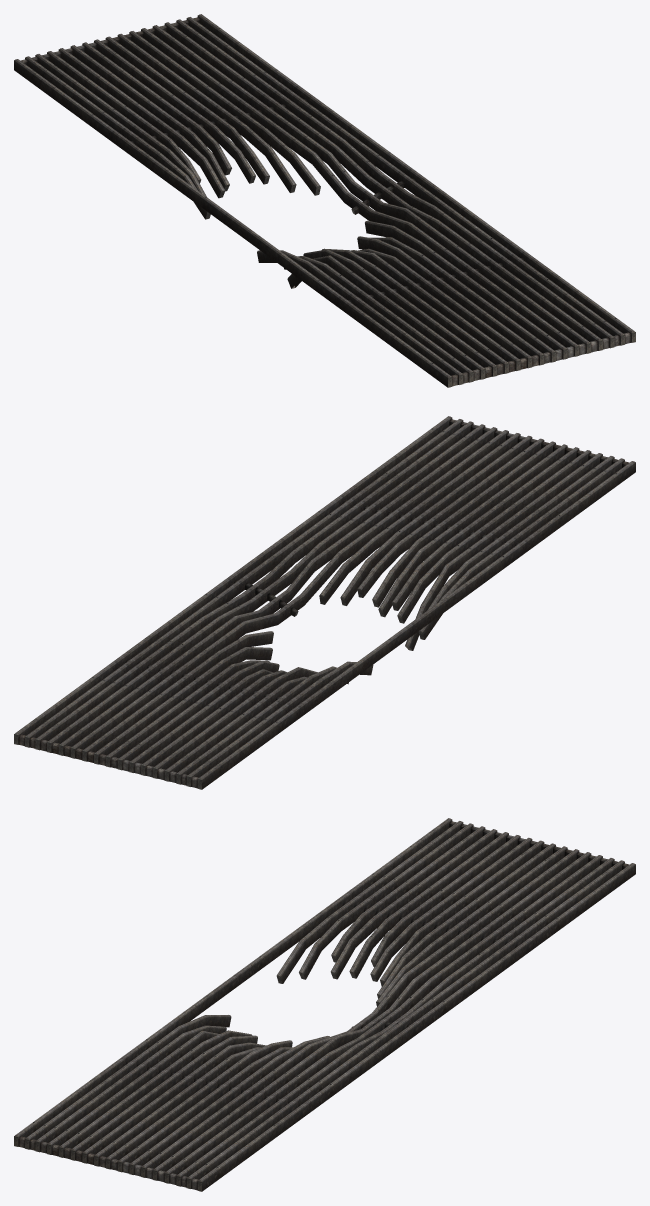
Rendered from floor_grate_metal_broken.dae.
3 renders of one model, top to bottom at view 1: azimuth 30°, elevation 25°; view 2: azimuth 150°, elevation 25°; view 3: azimuth 330°, elevation 25°, orthographic.
Visible parts, largest first — view 1: polySurface24; view 2: polySurface24; view 3: polySurface24.
Part boxes in pixels (left/top/right/bottom): polySurface24: left=14, top=14, right=635, bottom=387; polySurface24: left=14, top=416, right=635, bottom=789; polySurface24: left=14, top=818, right=635, bottom=1191.
Size of the model in its own units: 1 by 0.3004 by 4.
